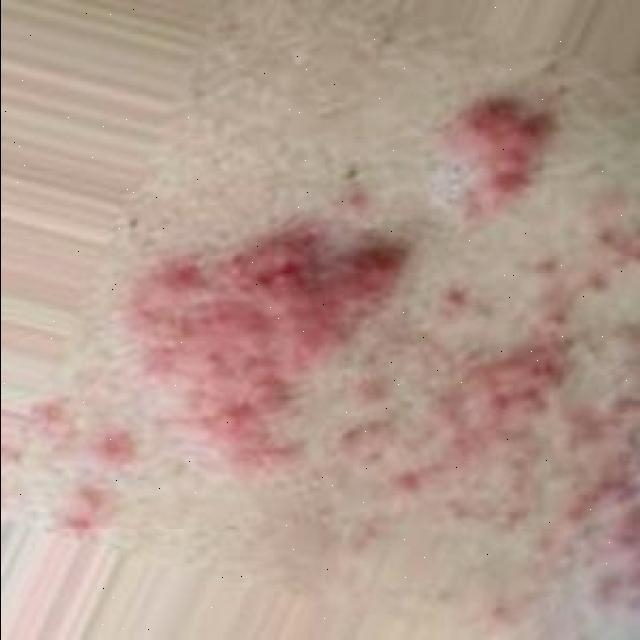Shingles: (62, 99, 640, 611)
